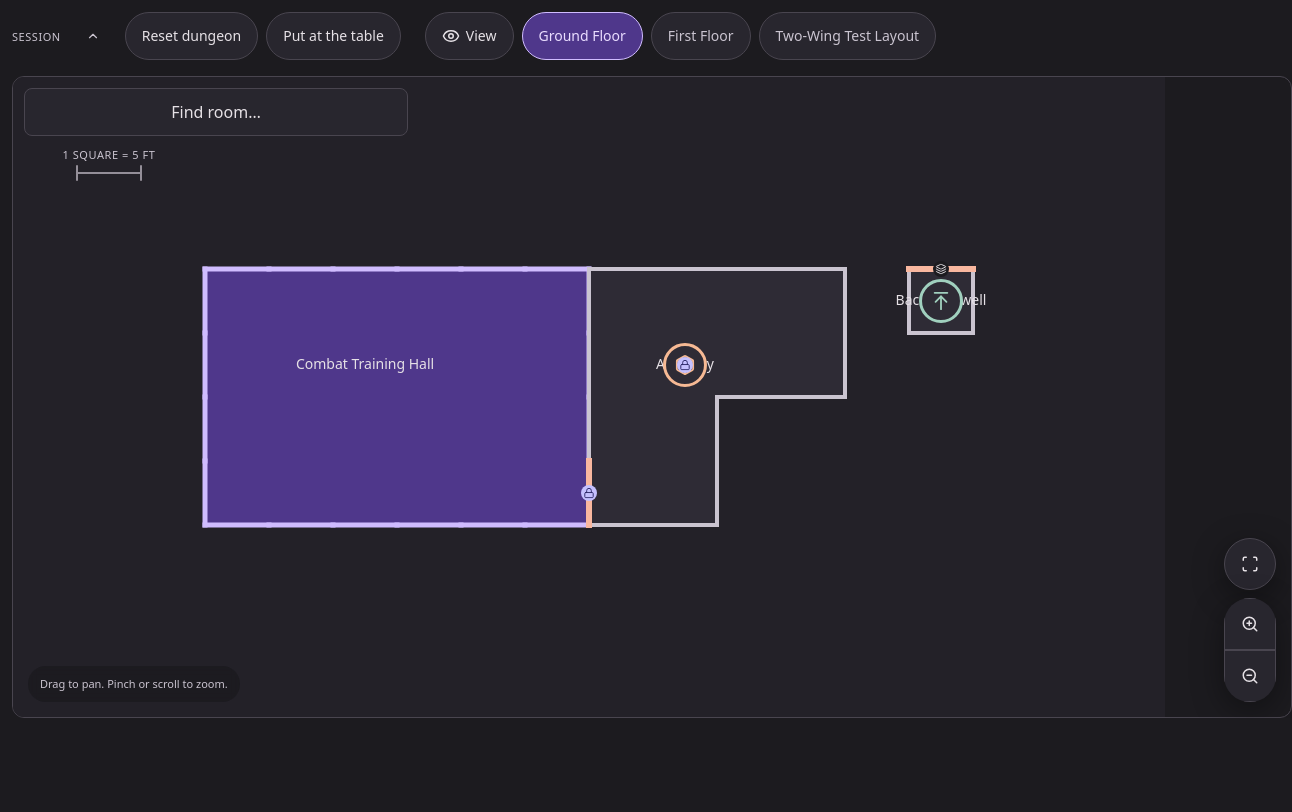
Test case: Design Phase J1 — toolbar trays › Session tray keeps its name and expanded state accurate through click and keyboard toggles
Check: the button "Reset dungeon" is shown, box [125,12,258,60]
Click the button named "Collapse Session tools". click: (64, 36)
box: [12,12,117,60]
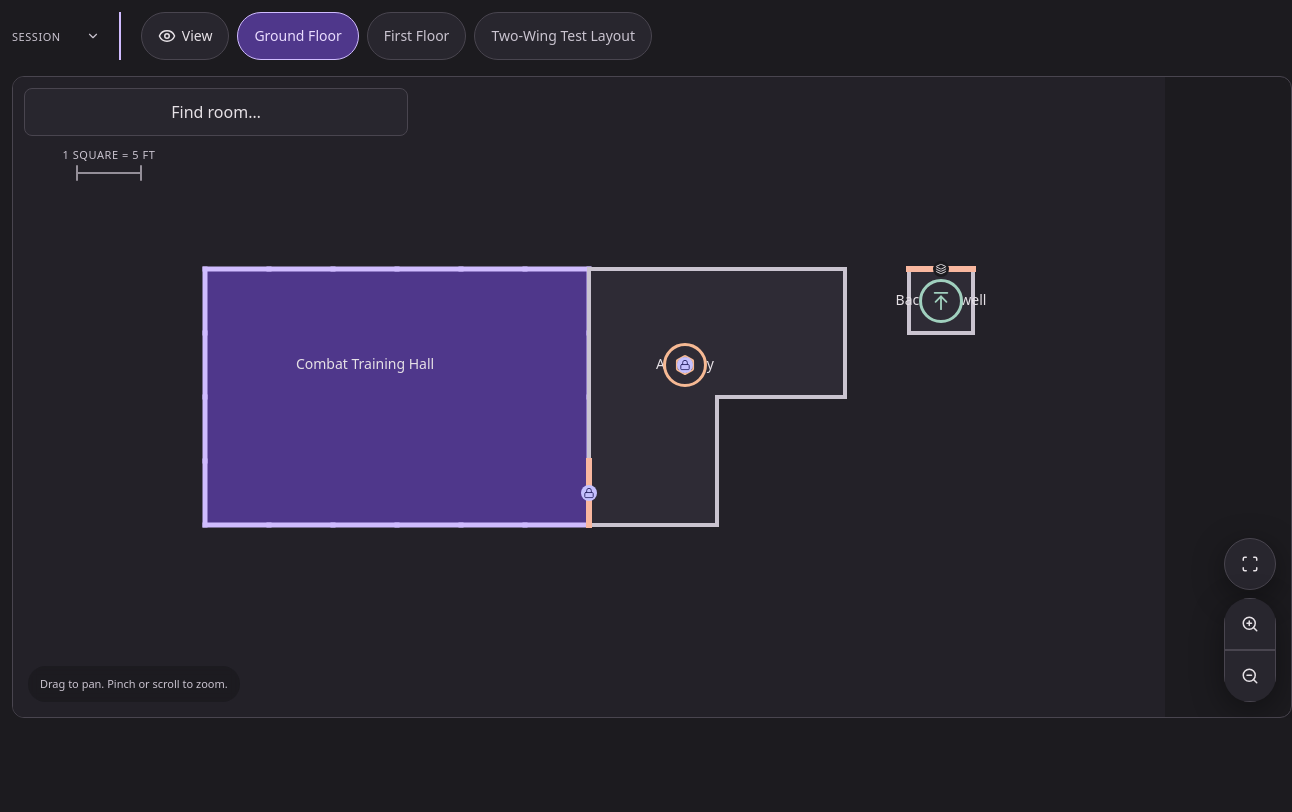
Check: the button named "Expand Session tools" is collapsed, box [12,12,117,60]
Check: the element with class "maplab-toolbar-tray" has attribute data-collapsed, box [12,12,133,60]
Press Enter
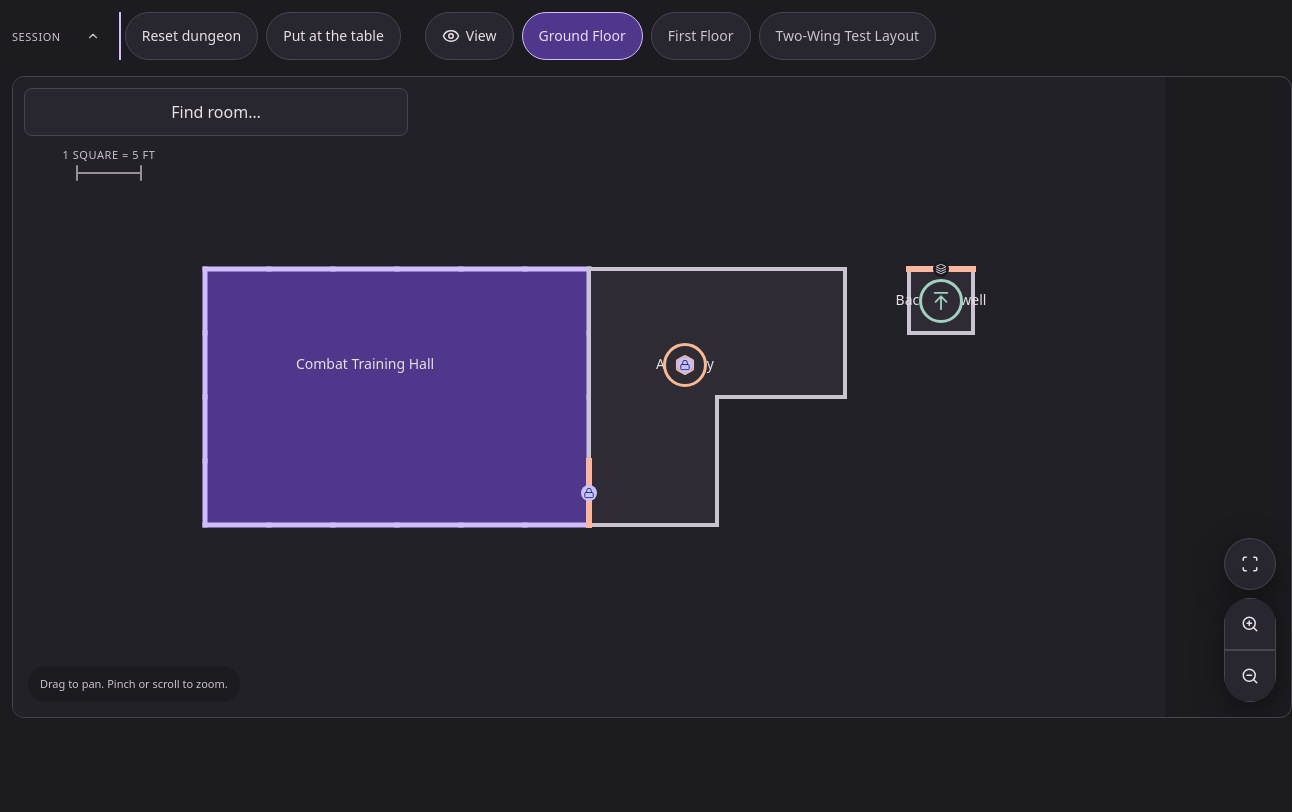
Check: the button named "Collapse Session tools" is expanded, box [12,12,117,60]
Check: the button "Reset dungeon" is shown, box [125,12,258,60]
Type keys " "
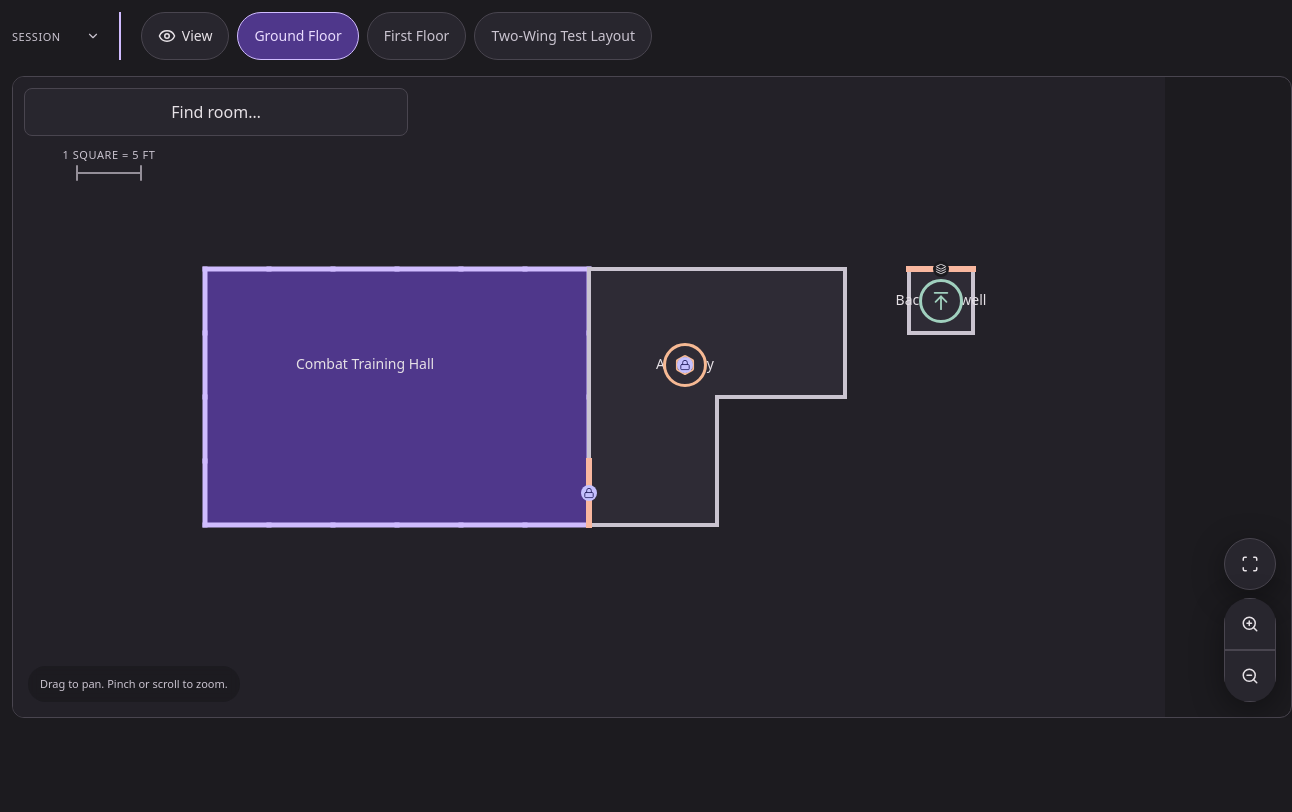
Check: the button named "Expand Session tools" is collapsed, box [12,12,117,60]
